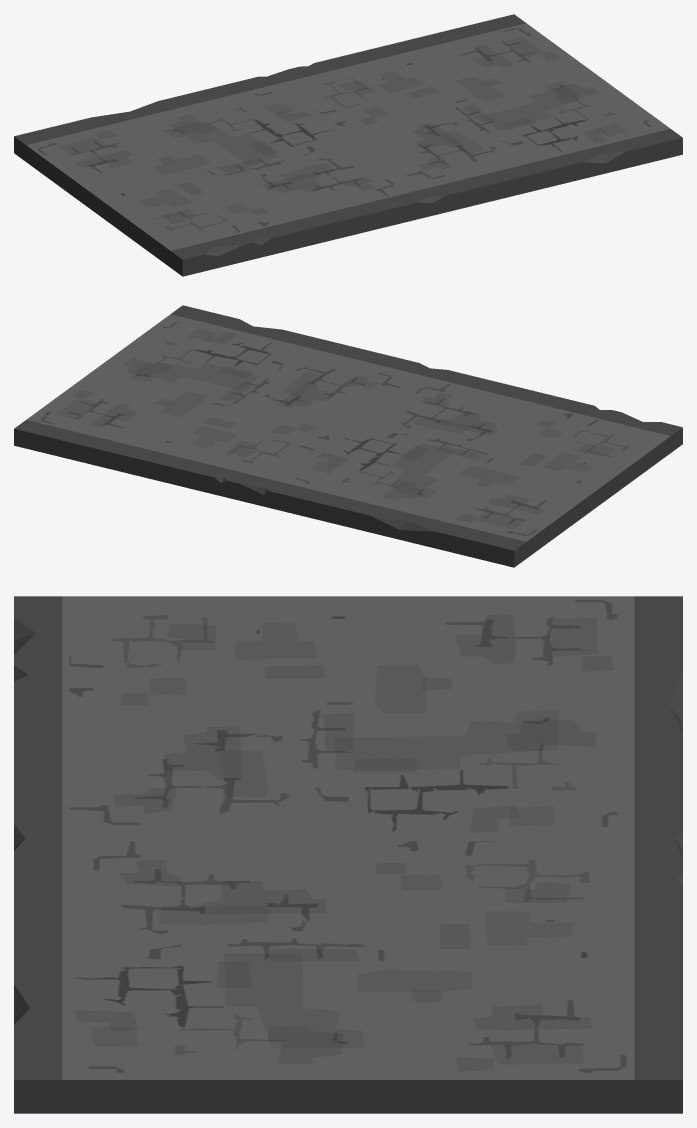
The model's file is SM_Env_City_Footpath_01.fbx.
3 renders of one model, top to bottom at view 1: azimuth 30°, elevation 25°; view 2: azimuth 150°, elevation 25°; view 3: azimuth 270°, elevation 25°, orthographic. The views are drawn at different scales.
Visible parts, largest first — view 1: SM_Env_City_Footpath_01; view 2: SM_Env_City_Footpath_01; view 3: SM_Env_City_Footpath_01.
Boxes of the visible parts, x1=… form: SM_Env_City_Footpath_01: x1=14, y1=14, x2=682, y2=276; SM_Env_City_Footpath_01: x1=14, y1=305, x2=682, y2=567; SM_Env_City_Footpath_01: x1=14, y1=596, x2=682, y2=1113.
Bounding box in the file's own units: 5 × 0.1616 × 2.92.
